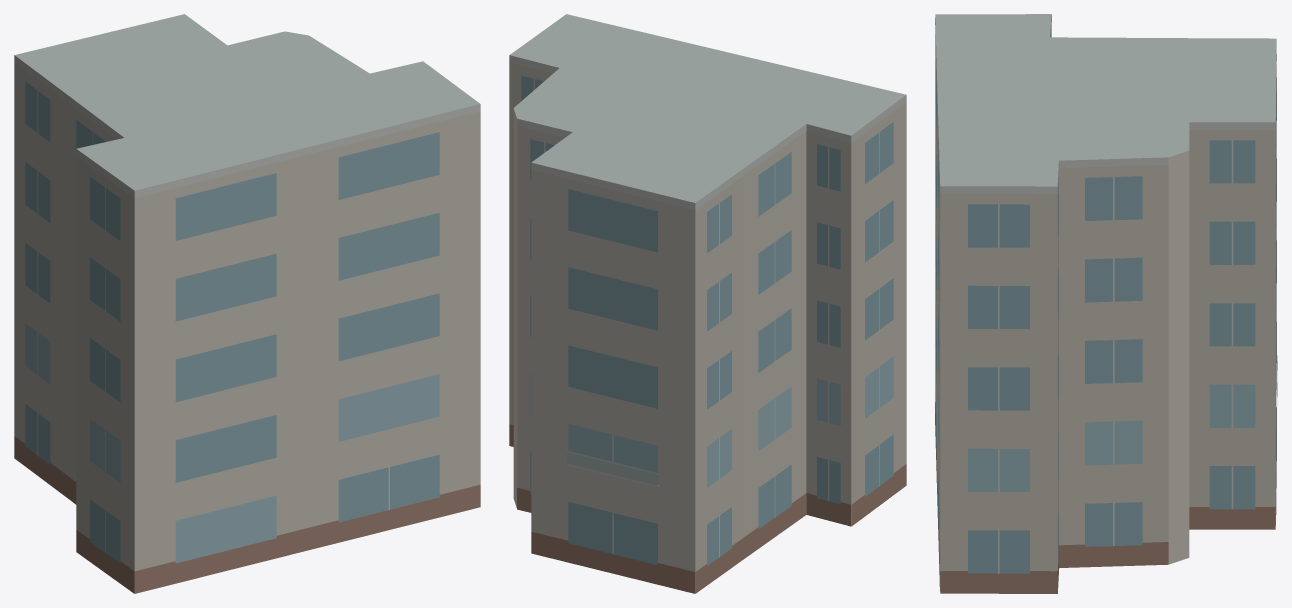
Rendered from survey-upis-32617545.glb.
3 views of the same model, side by side, from view 1: azimuth 30°, elevation 25°; view 2: azimuth 150°, elevation 25°; view 3: azimuth 270°, elevation 25° (orthographic). The views are drawn at different scales.
Visible parts, largest first — view 1: survey-upis-32617545.tmp; view 2: survey-upis-32617545.tmp; view 3: survey-upis-32617545.tmp.
Part boxes in pixels (<box>): survey-upis-32617545.tmp: <box>14,14,480,593</box>; survey-upis-32617545.tmp: <box>509,14,906,593</box>; survey-upis-32617545.tmp: <box>935,14,1277,593</box>.
Bounding box in the file's own units: 12.22 × 13.45 × 10.26.
